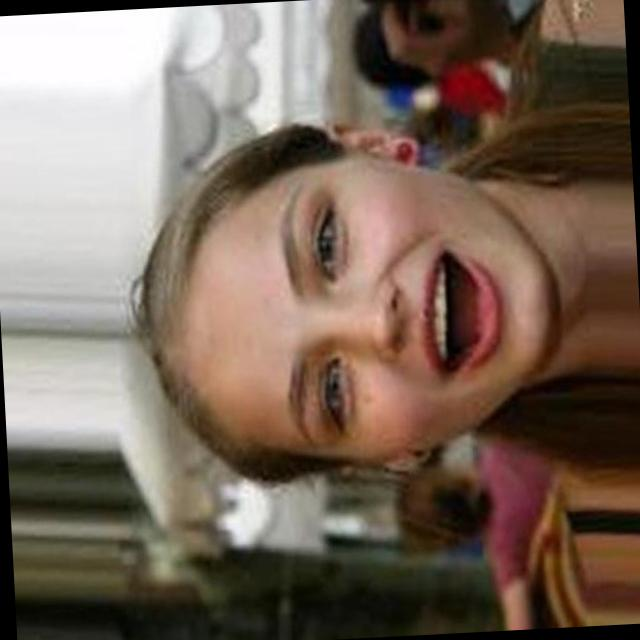bareface: (130, 118, 527, 522)
